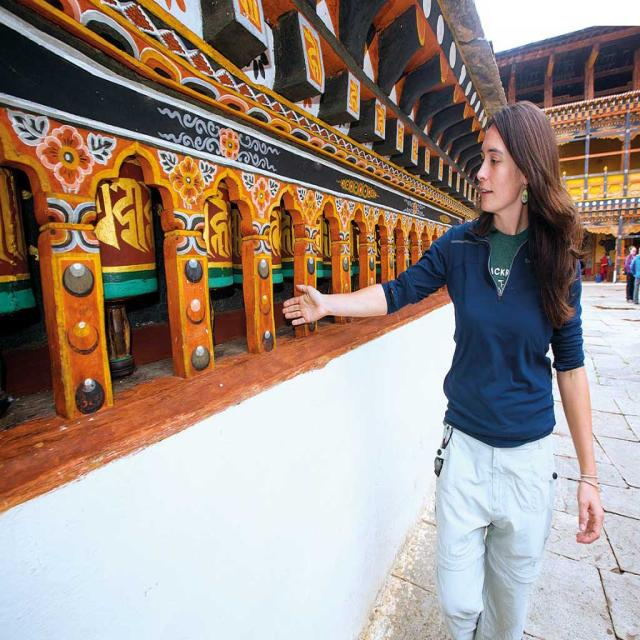body: (277, 88, 615, 640), (624, 245, 638, 303), (629, 253, 639, 305), (599, 251, 609, 283)
